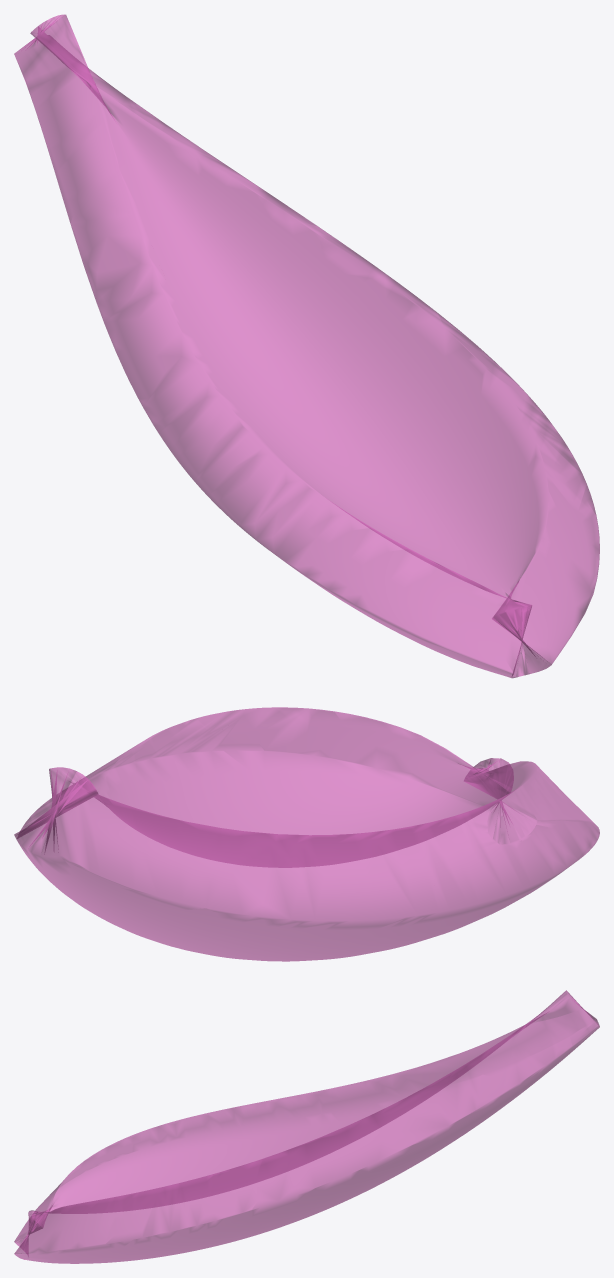
File: leaf.glb
The picture shows the model from 3 angles, top to bottom: view 1: azimuth 30°, elevation 25°; view 2: azimuth 150°, elevation 25°; view 3: azimuth 270°, elevation 25°; orthographic projection. The views are drawn at different scales.
Visible parts, largest first — view 1: Leaf; view 2: Leaf; view 3: Leaf.
Boxes of the visible parts, x1,y1,x2,y2 form: Leaf: (14,14,599,678); Leaf: (14,707,599,961); Leaf: (14,990,599,1263).
Bounding box in the file's own units: 0.4409 × 0.491 × 1.06.
